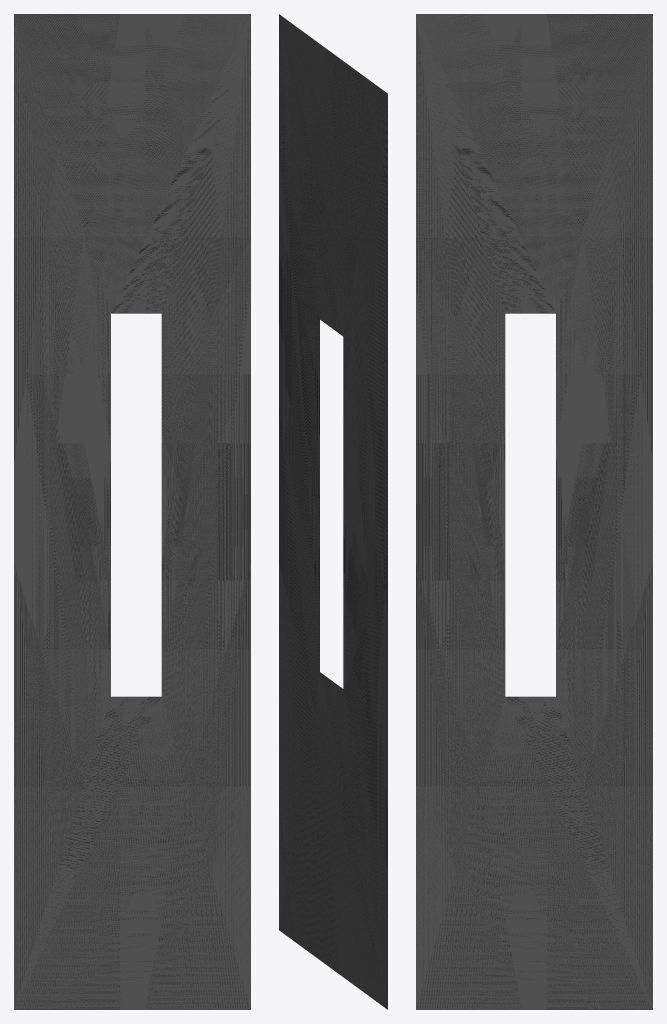
The model's file is original-50.obj.
The picture shows the model from 3 angles, left to right: view 1: azimuth 90°, elevation 25°; view 2: azimuth 210°, elevation 25°; view 3: azimuth 270°, elevation 25°; orthographic projection. The views are drawn at different scales.
Visible parts, largest first — view 1: mesh20/mesh20-geometry/material_2/component_4#mesh20-geometry; view 2: mesh20/mesh20-geometry/material_2/component_4#mesh20-geometry; view 3: mesh20/mesh20-geometry/material_2/component_4#mesh20-geometry.
Part boxes in pixels (x1,y1,x2,y2): mesh20/mesh20-geometry/material_2/component_4#mesh20-geometry: (14,14,250,1009); mesh20/mesh20-geometry/material_2/component_4#mesh20-geometry: (279,14,387,1009); mesh20/mesh20-geometry/material_2/component_4#mesh20-geometry: (416,14,652,1009).
Bounding box in the file's own units: 0 × 0.1313 × 0.0283.
